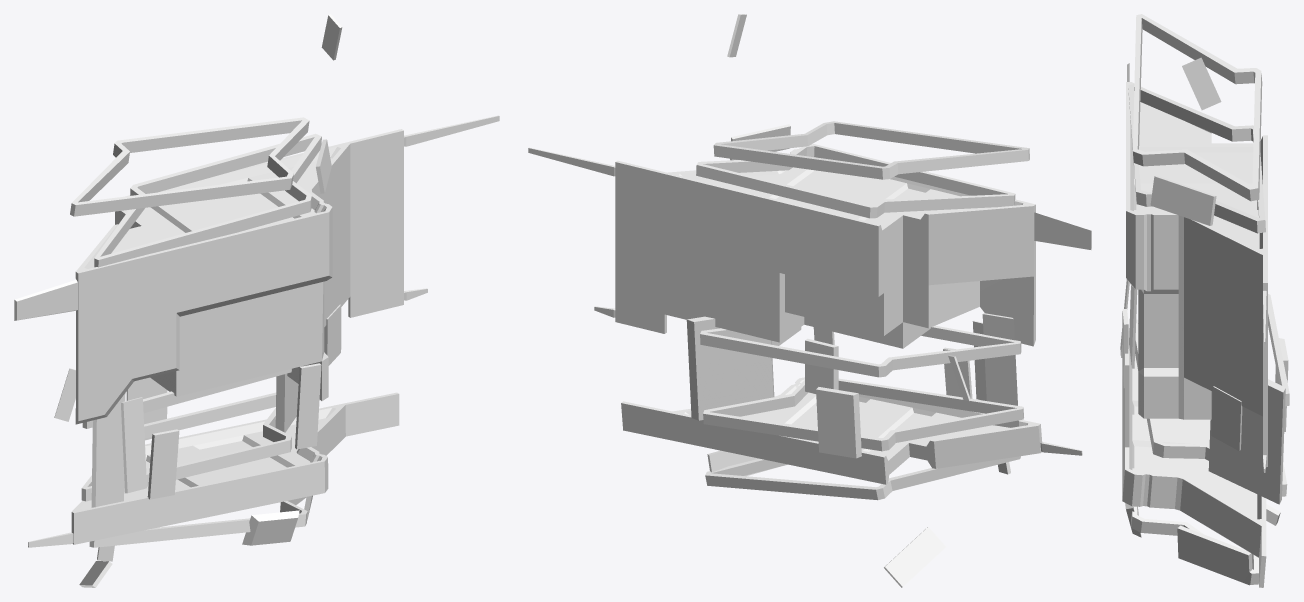
The model's file is duzumi_hq_structure_06.glb.
The picture shows the model from 3 angles, left to right: view 1: azimuth 30°, elevation 25°; view 2: azimuth 150°, elevation 25°; view 3: azimuth 270°, elevation 25°; orthographic projection. The views are drawn at different scales.
Visible parts, largest first — view 1: gate_str_end_L004; view 2: gate_str_end_L004; view 3: gate_str_end_L004.
Part boxes in pixels (box(x1,y1,x2,y2)): gate_str_end_L004: box(14, 14, 499, 587); gate_str_end_L004: box(528, 14, 1091, 587); gate_str_end_L004: box(1120, 14, 1289, 587).
Size of what is drawn, in the model's own units: 32.37 by 30.84 by 8.2.
Materials: 1 (1 with a texture image).
